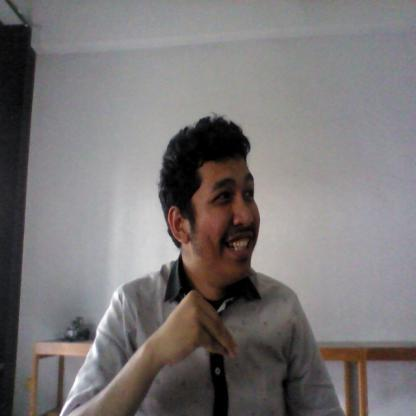Malam: (135, 285, 247, 388)
